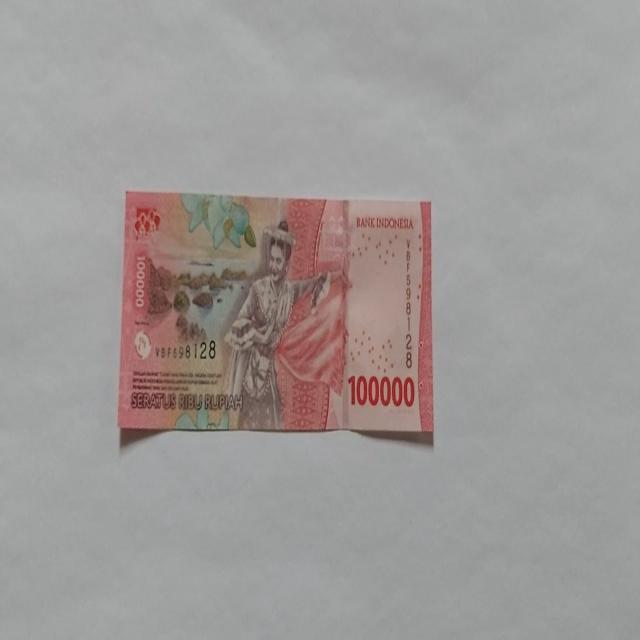seratus ribu rupiah: (117, 190, 434, 437), (221, 220, 332, 430)
